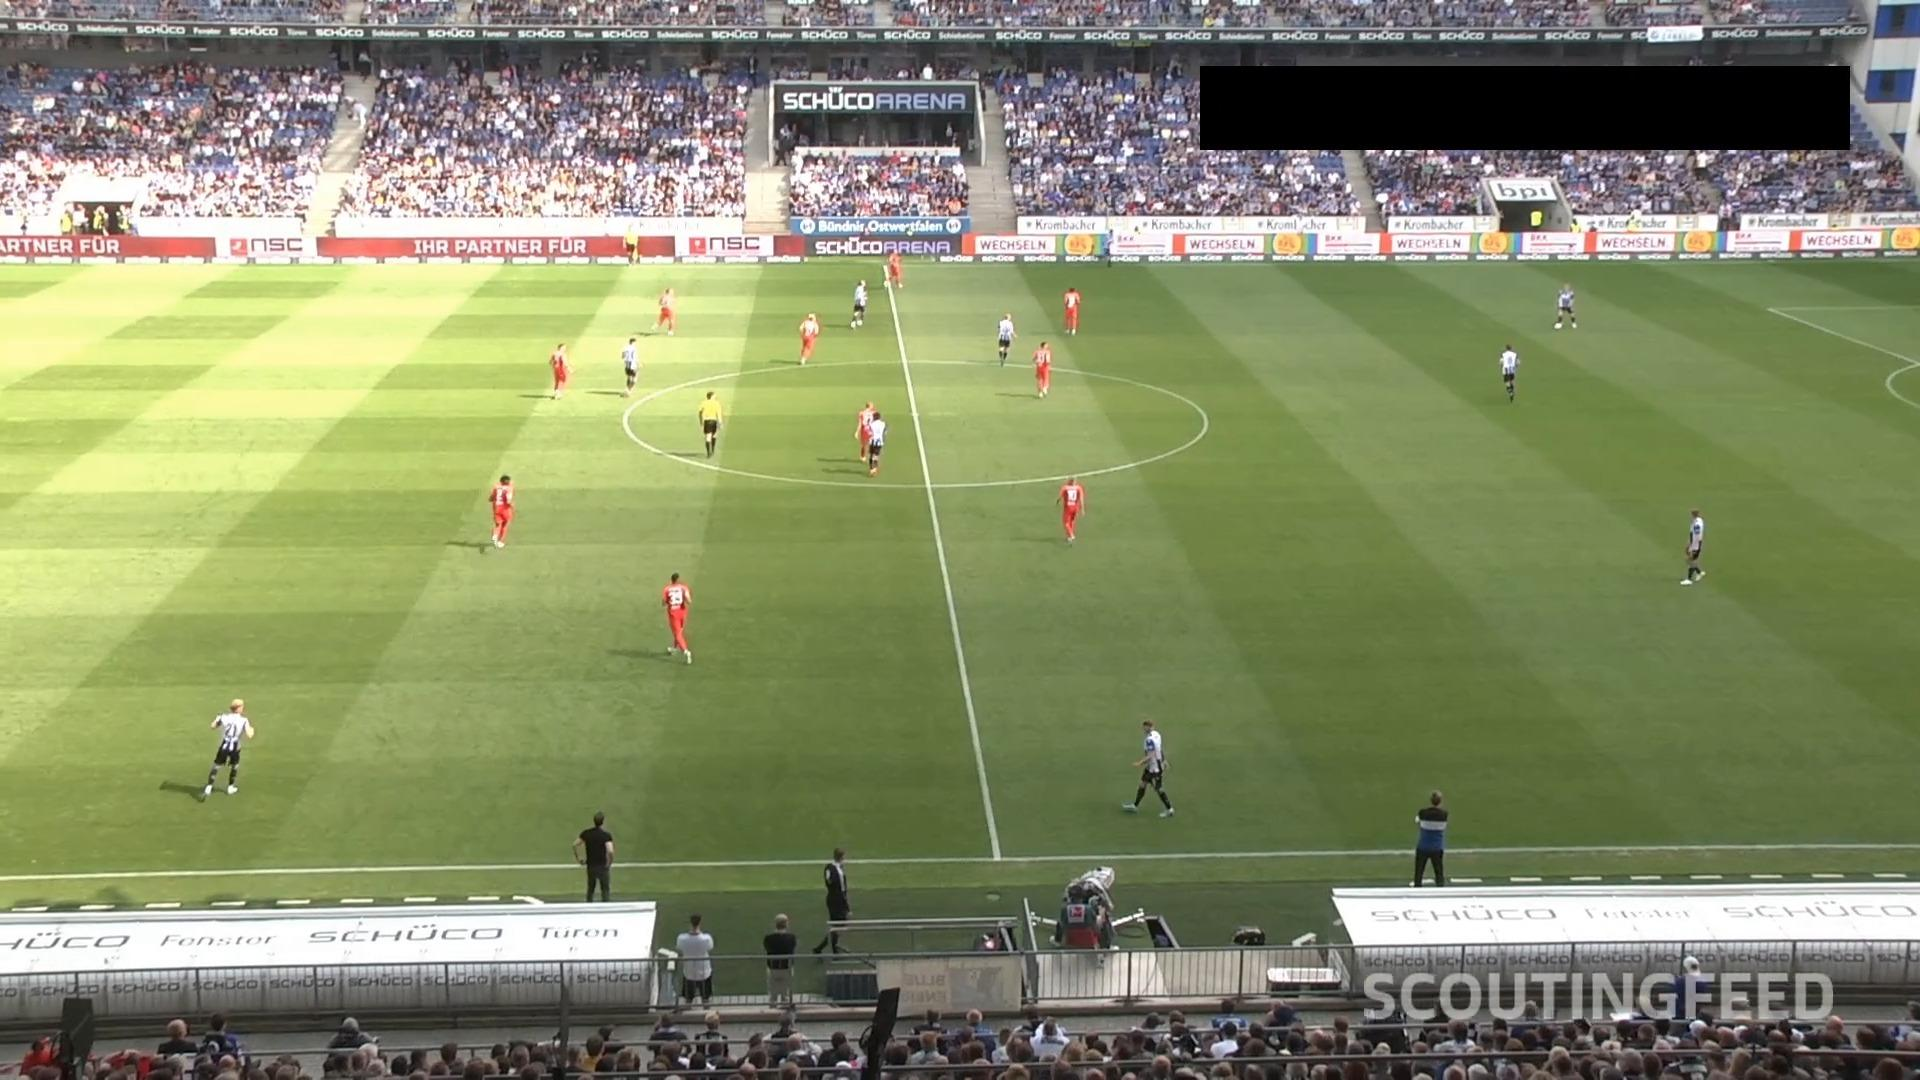ball: (1553, 320, 1564, 330)
